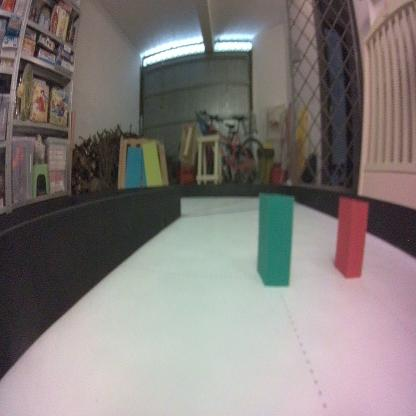green: (255, 186, 294, 289)
red: (334, 195, 370, 279)
